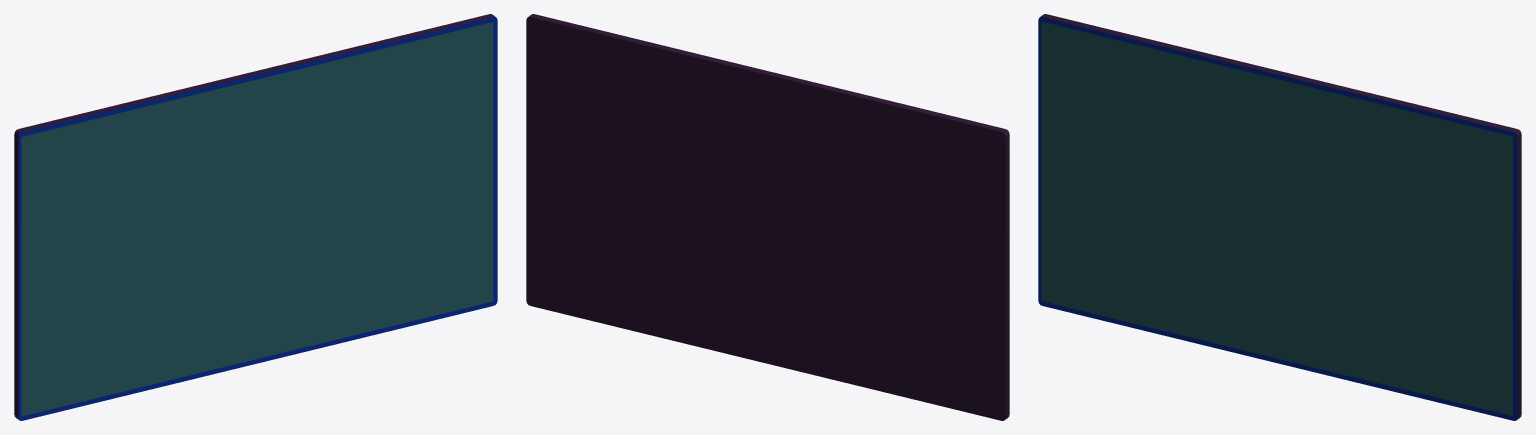
File: W_O_Display_16x9_T1.fbx
3 renders of one model, left to right at view 1: azimuth 30°, elevation 25°; view 2: azimuth 150°, elevation 25°; view 3: azimuth 330°, elevation 25°, orthographic.
Visible parts, largest first — view 1: W_O_Display_16x9_T1; view 2: W_O_Display_16x9_T1; view 3: W_O_Display_16x9_T1.
Boxes of the visible parts, x1=… form: W_O_Display_16x9_T1: x1=14, y1=14, x2=497, y2=420; W_O_Display_16x9_T1: x1=526, y1=14, x2=1009, y2=420; W_O_Display_16x9_T1: x1=1038, y1=14, x2=1521, y2=420.
Size of the model in its own units: 16.15 by 9.3 by 0.2393.
